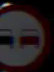No overtake: (0, 3, 48, 69)
